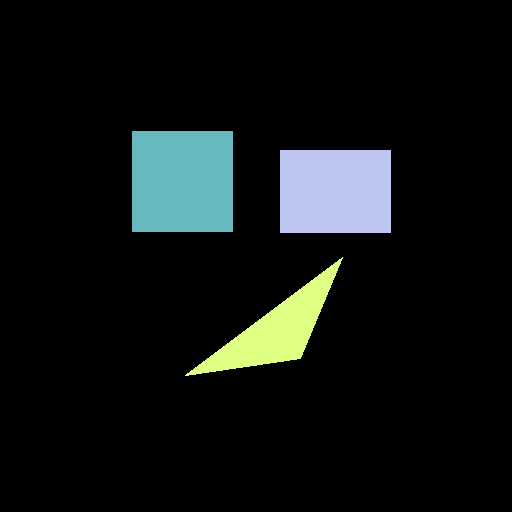rectangle: (280, 150, 390, 232)
square: (132, 131, 232, 231)
triangle: (185, 257, 342, 375)
